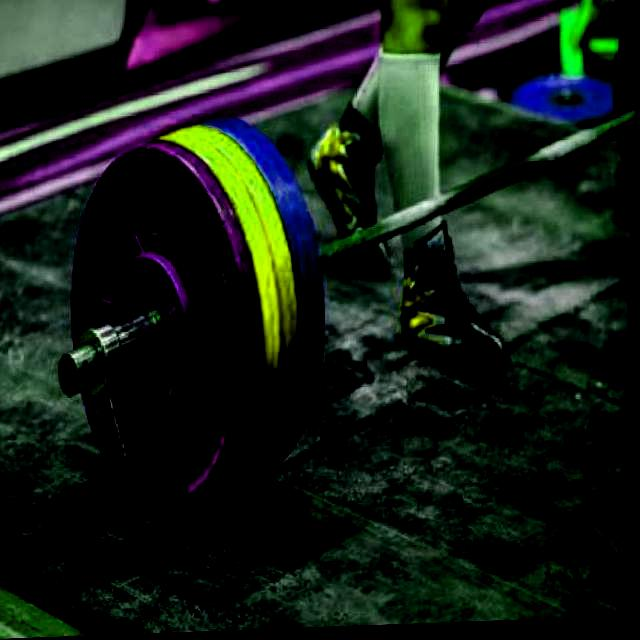barbell: (51, 133, 265, 529)
